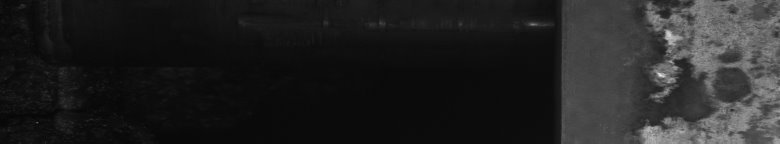kb: (639, 4, 776, 136)
